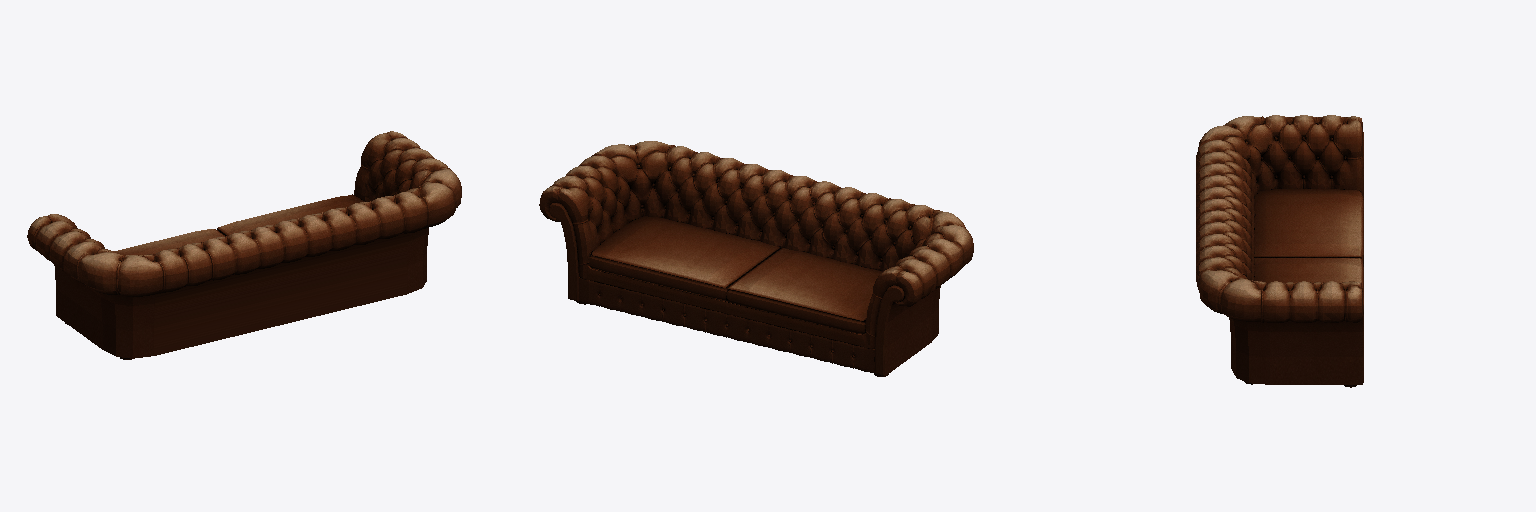
3 renders of one model, left to right at view 1: azimuth 30°, elevation 25°; view 2: azimuth 150°, elevation 25°; view 3: azimuth 270°, elevation 25°, orthographic.
Visible parts, largest first — view 1: couch4; view 2: couch4; view 3: couch4.
Boxes of the visible parts, x1=… form: couch4: x1=27, y1=131, x2=461, y2=359; couch4: x1=539, y1=141, x2=973, y2=376; couch4: x1=1196, y1=115, x2=1363, y2=387.
Bounding box in the file's own units: 3.24 × 0.9115 × 1.25.
1 materials, 1 textured.